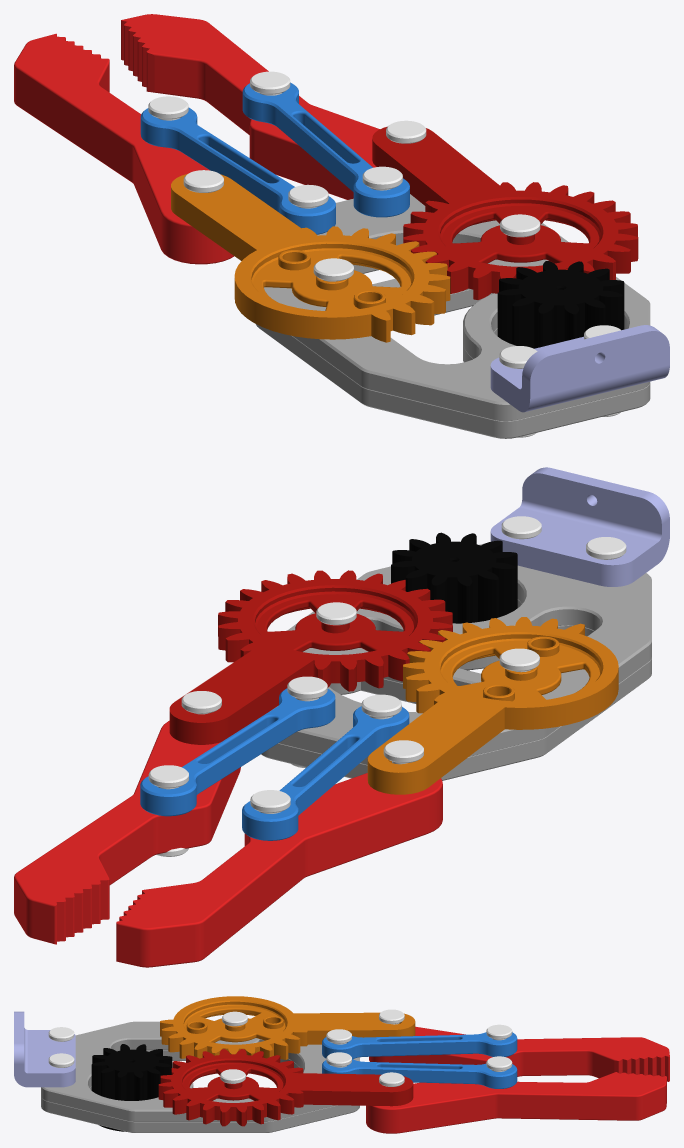
The model's file is RobotGripper.glb.
The picture shows the model from 3 angles, top to bottom: view 1: azimuth 30°, elevation 25°; view 2: azimuth 150°, elevation 25°; view 3: azimuth 270°, elevation 25°; orthographic projection. The views are drawn at different scales.
Visible parts, largest first — view 1: GearlinkOrange, GearlinkRed, Plate, Gripper2, Gripper, Mountingbracket, Gear, Plate2, Link2, Link, pin.008, pin.009 (+7 smaller); view 2: GearlinkRed, GearlinkOrange, Gripper2, Gripper, Plate, Mountingbracket, Gear, Link, Link2, Plate2, pin.008, pin.004 (+8 smaller); view 3: Gripper, GearlinkRed, GearlinkOrange, Gripper2, Plate, Gear, Plate2, Link2, Mountingbracket, Link, pin.009, pin.008 (+8 smaller).
Boxes of the visible parts, box(x1,y1,x2,y2) form: GearlinkOrange: box(171, 174, 450, 342); GearlinkRed: box(372, 126, 638, 299); Plate: box(264, 194, 650, 421); Gripper2: box(14, 33, 233, 264); Gripper: box(121, 14, 379, 199); Mountingbracket: box(490, 325, 669, 412); Gear: box(497, 261, 624, 348); Plate2: box(256, 264, 650, 438); Link2: box(140, 107, 335, 234); Link: box(242, 82, 409, 217); pin.008: box(250, 71, 290, 95); pin.009: box(148, 96, 188, 120); GearlinkRed: box(169, 570, 452, 744); GearlinkOrange: box(367, 617, 618, 794); Gripper2: box(116, 773, 442, 967); Gripper: box(14, 720, 240, 944); Plate: box(274, 543, 651, 764); Mountingbracket: box(490, 467, 669, 586); Gear: box(391, 532, 517, 670); Link: box(140, 688, 335, 816); Link2: box(242, 706, 409, 840); Plate2: box(261, 599, 651, 780); pin.008: box(148, 765, 188, 856); pin.004: box(287, 676, 327, 768); Gripper: box(366, 1072, 666, 1133); GearlinkRed: box(158, 1049, 413, 1126); GearlinkOrange: box(160, 996, 415, 1059); Gripper2: box(369, 1026, 669, 1081); Plate: box(41, 1021, 359, 1121); Gear: box(91, 1044, 172, 1131); Plate2: box(41, 1050, 359, 1132); Link2: box(322, 1032, 517, 1059); Mountingbracket: box(14, 1011, 75, 1087); Link: box(322, 1059, 517, 1088); pin.009: box(486, 1024, 512, 1040); pin.008: box(486, 1056, 512, 1071).
Size of the model in its own units: 0.0534 by 0.0148 by 0.1275.
